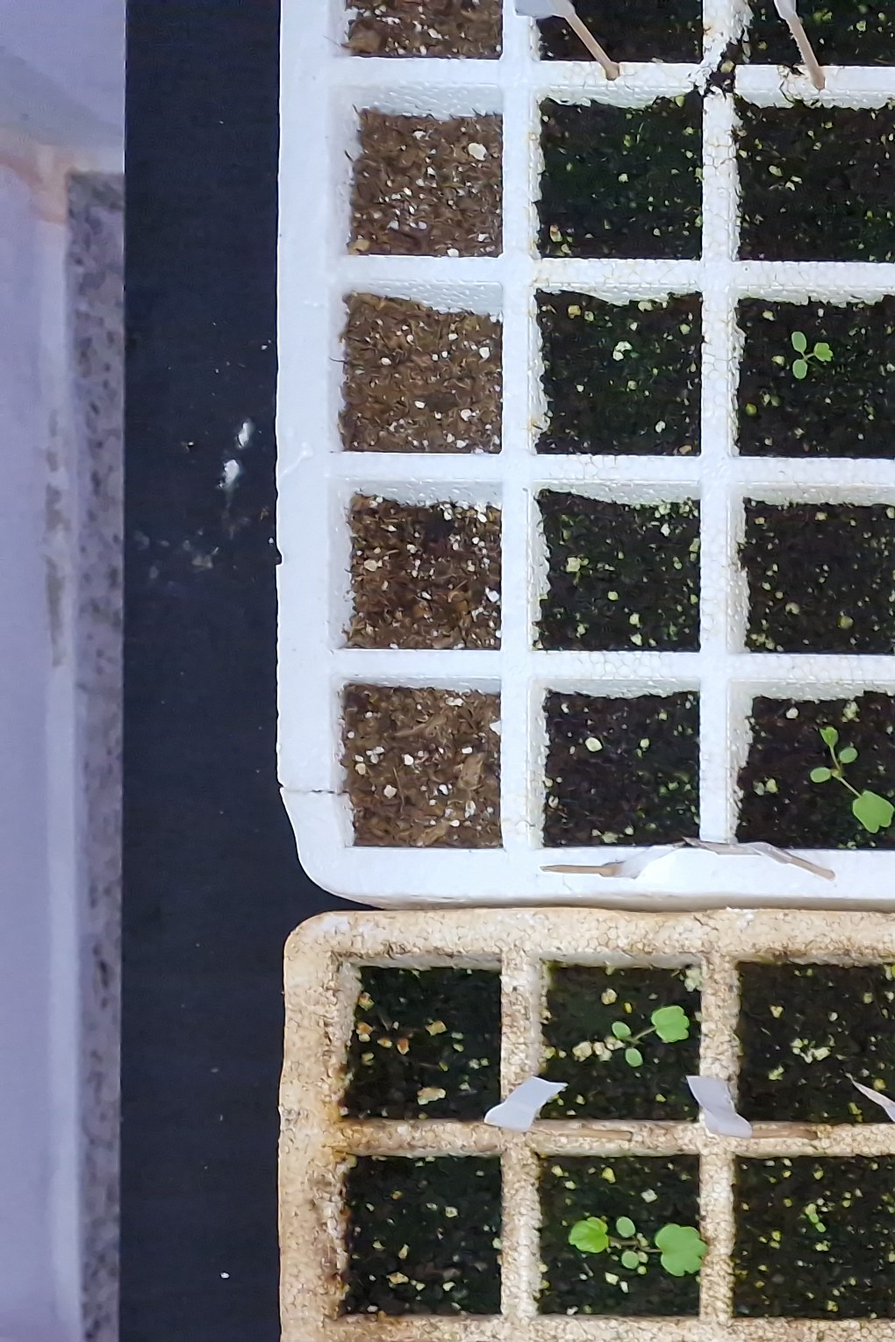Folha: (656, 1225, 710, 1274), (652, 1006, 689, 1043), (570, 1218, 608, 1253), (616, 1218, 635, 1238), (613, 1022, 630, 1039), (626, 1048, 642, 1066), (622, 1252, 639, 1268)
Germinacao: (568, 1217, 709, 1276), (613, 1007, 689, 1067), (809, 1213, 826, 1232)
